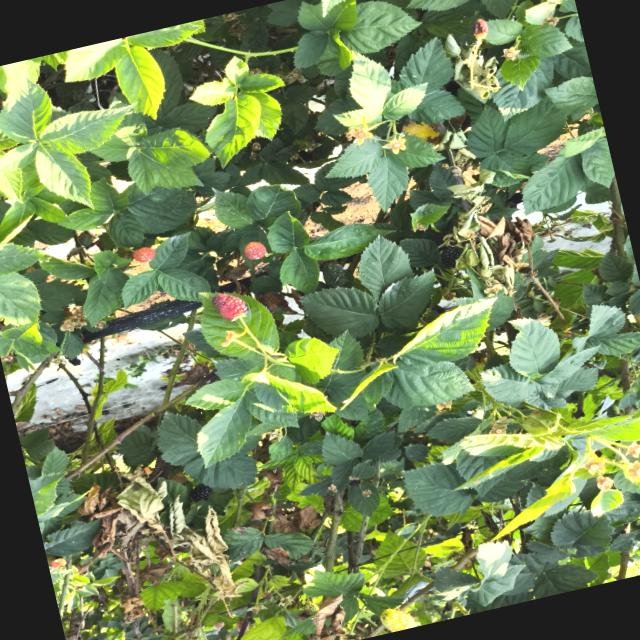maduro: (440, 245, 462, 267), (189, 483, 212, 501)
marron: (211, 293, 247, 320)
naranja: (244, 241, 265, 259), (133, 247, 155, 262)
verde: (380, 608, 416, 632)
